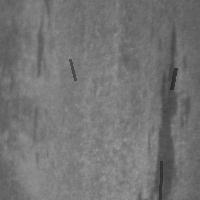inclusion: (147, 20, 191, 198), (30, 1, 57, 82), (27, 108, 48, 145), (68, 57, 77, 82), (158, 159, 163, 200), (169, 66, 177, 91)
